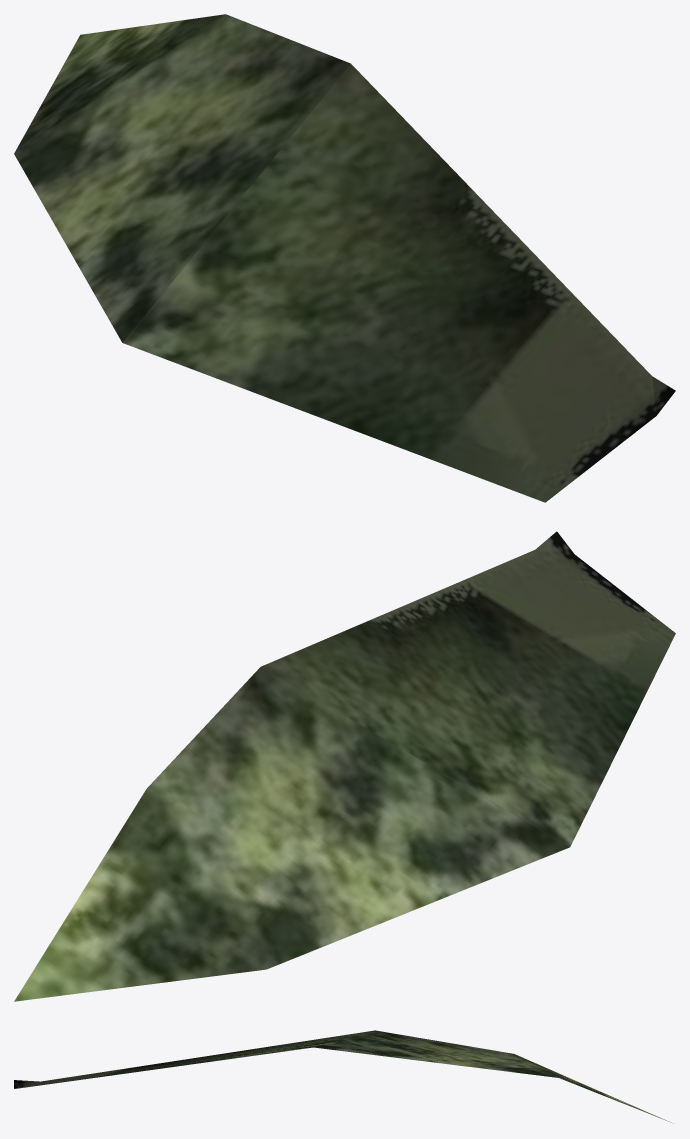
3 renders of one model, top to bottom at view 1: azimuth 30°, elevation 25°; view 2: azimuth 150°, elevation 25°; view 3: azimuth 270°, elevation 25°, orthographic. The views are drawn at different scales.
Bounding box in the file's own units: 1.59 × 0.905 × 5.77.
1 material, 1 textured.
